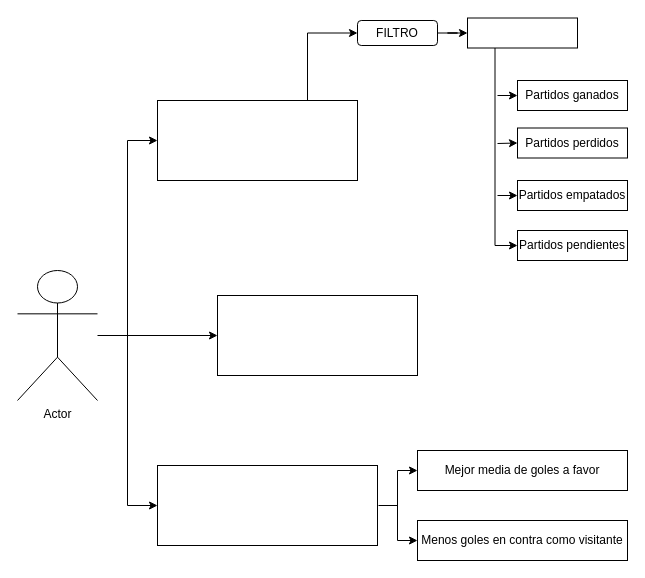
Some shapes in this 645 by 578 pixel diagram are drawn without their labels. Here are the shapes that lost their labels. From the top down, the centre of each, then its label:
[522,32]: Equipo
[257,140]: Visualizar resultados actuales de partidos
[317,335]: Visualizar clasificación actual de la temporada
[267,505]: Visualizar estadísticas. "Cinco mejores"
